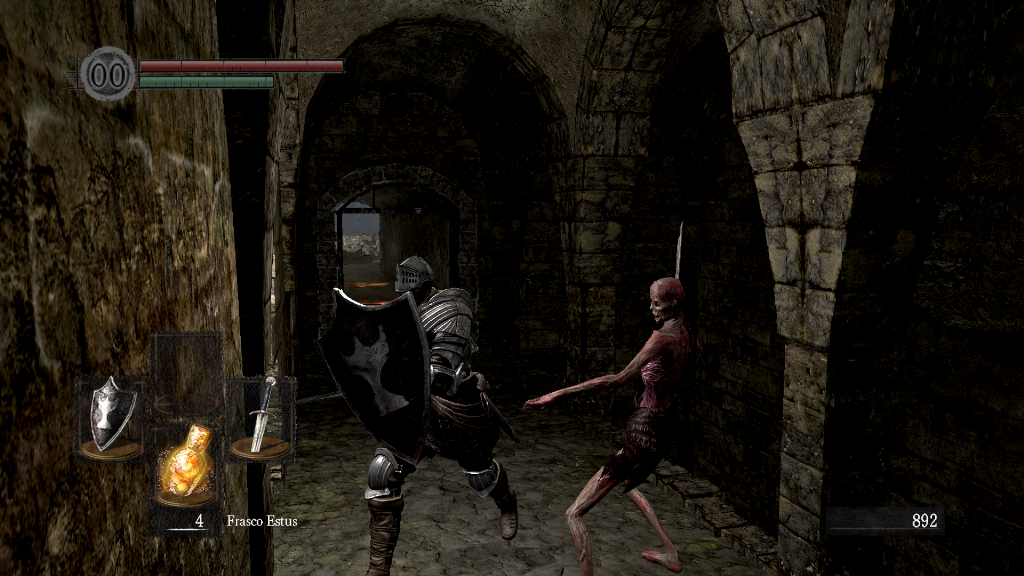health: (138, 58, 343, 71)
hollow: (528, 271, 690, 576)
humanity: (80, 45, 136, 102)
player: (279, 251, 522, 576)
souls: (825, 506, 945, 536)
stamina: (138, 74, 274, 88)
